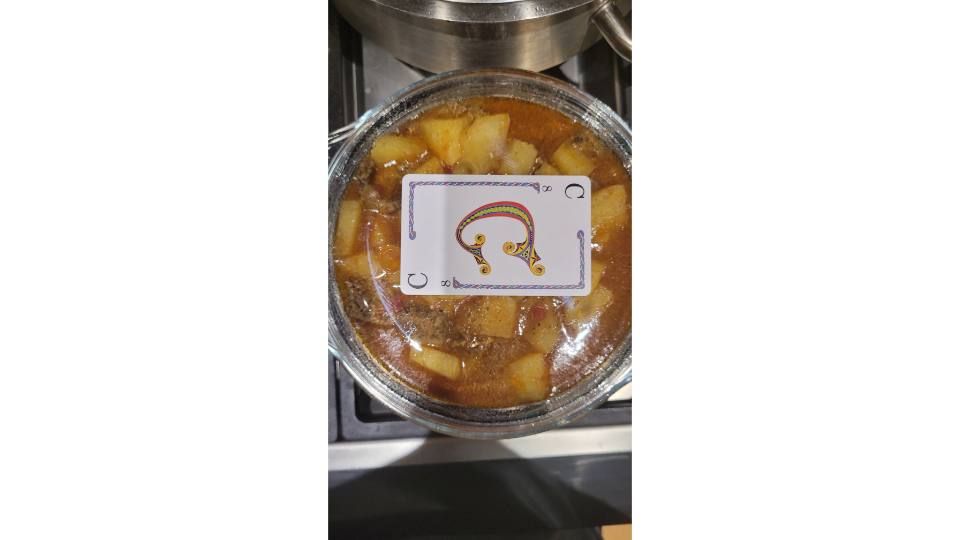C: (397, 170, 595, 298)
